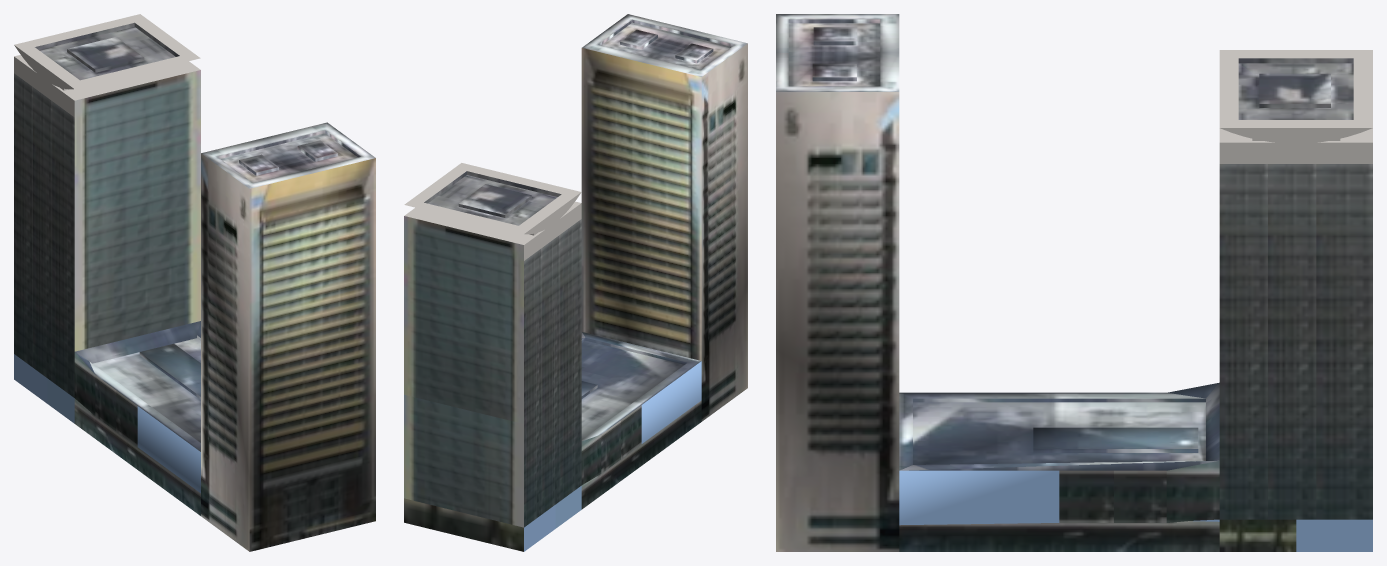
The model's file is ritz_carlton_f63abc8f.glb.
3 views of the same model, side by side, from view 1: azimuth 30°, elevation 25°; view 2: azimuth 150°, elevation 25°; view 3: azimuth 270°, elevation 25° (orthographic). The views are drawn at different scales.
Visible parts, largest first — view 1: ritz_carlton_f63abc8f; view 2: ritz_carlton_f63abc8f; view 3: ritz_carlton_f63abc8f.
Boxes of the visible parts, x1,y1,x2,y2 form: ritz_carlton_f63abc8f: [14, 14, 375, 551]; ritz_carlton_f63abc8f: [404, 14, 747, 551]; ritz_carlton_f63abc8f: [776, 14, 1372, 551].
Size of the model in its own units: 46.22 by 127 by 149.
1 material, 1 textured.
